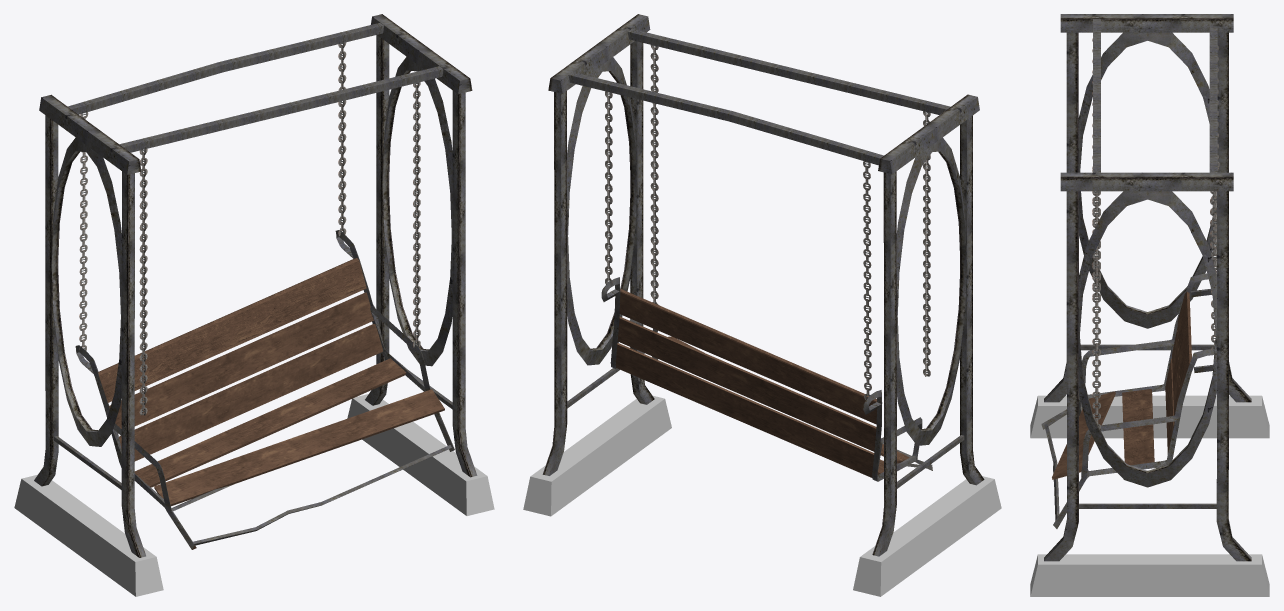
Rendered from M_Home_Garden_Swing.fbx.
3 views of the same model, side by side, from view 1: azimuth 30°, elevation 25°; view 2: azimuth 150°, elevation 25°; view 3: azimuth 270°, elevation 25° (orthographic).
Parts seen in each view (by area): view 1: M_Home_Garden_Swing; view 2: M_Home_Garden_Swing; view 3: M_Home_Garden_Swing.
Boxes of the visible parts, bbox=[...] form: M_Home_Garden_Swing: bbox=[14, 14, 494, 596]; M_Home_Garden_Swing: bbox=[523, 14, 1001, 596]; M_Home_Garden_Swing: bbox=[1030, 14, 1269, 596].
Bounding box in the file's own units: 184 × 207 × 108.
